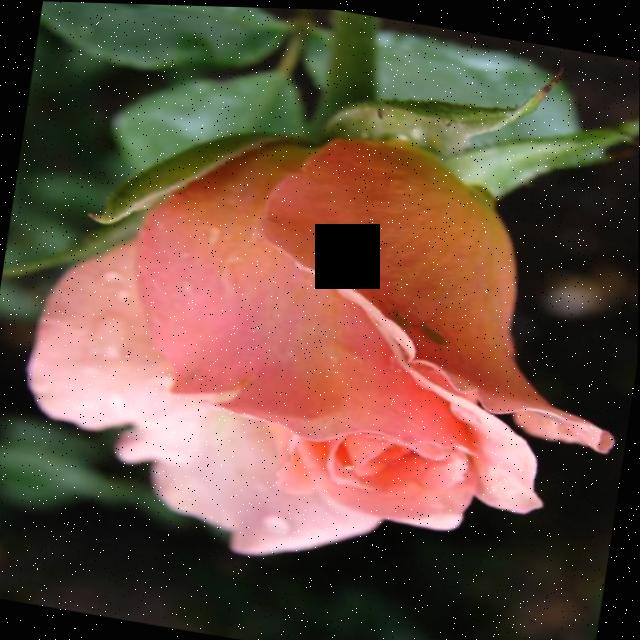rose: (0, 37, 640, 640)
